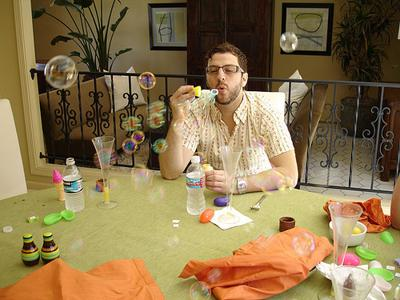person: (158, 39, 302, 197)
